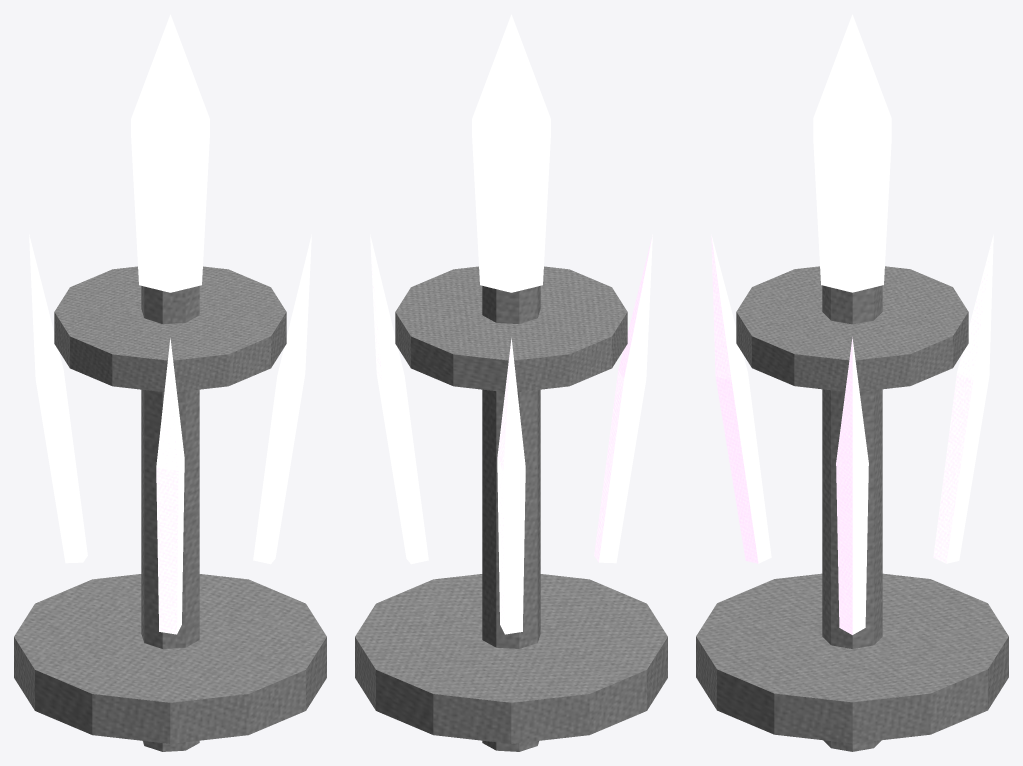
File: norn-spindle.glb
3 renders of one model, left to right at view 1: azimuth 30°, elevation 25°; view 2: azimuth 150°, elevation 25°; view 3: azimuth 270°, elevation 25°, orthographic.
Visible parts, largest first — view 1: lower-whorl, upper-whorl, thread-crystal, spindle-shaft, norn-thread-2, norn-thread-0, norn-thread-1; view 2: lower-whorl, upper-whorl, thread-crystal, spindle-shaft, norn-thread-1, norn-thread-0, norn-thread-2; view 3: lower-whorl, upper-whorl, thread-crystal, spindle-shaft, norn-thread-1, norn-thread-2, norn-thread-0.
Boxes of the visible parts, x1,y1,x2,y2 form: lower-whorl: [14, 574, 326, 743]; upper-whorl: [54, 266, 286, 391]; thread-crystal: [131, 14, 209, 292]; spindle-shaft: [141, 286, 199, 751]; norn-thread-2: [29, 234, 87, 563]; norn-thread-0: [253, 234, 311, 564]; norn-thread-1: [156, 338, 184, 634]; lower-whorl: [355, 574, 667, 743]; upper-whorl: [395, 266, 627, 391]; thread-crystal: [472, 14, 550, 292]; spindle-shaft: [482, 286, 540, 751]; norn-thread-1: [594, 234, 652, 563]; norn-thread-0: [370, 234, 428, 564]; norn-thread-2: [497, 338, 525, 634]; lower-whorl: [696, 573, 1008, 743]; upper-whorl: [736, 266, 968, 391]; thread-crystal: [813, 14, 891, 292]; spindle-shaft: [822, 285, 882, 751]; norn-thread-1: [711, 234, 771, 563]; norn-thread-2: [933, 234, 993, 563]; norn-thread-0: [836, 337, 868, 634].
Size of the model in its own units: 0.6335 by 1.59 by 0.62.
Materials: 4 (4 with a texture image).
